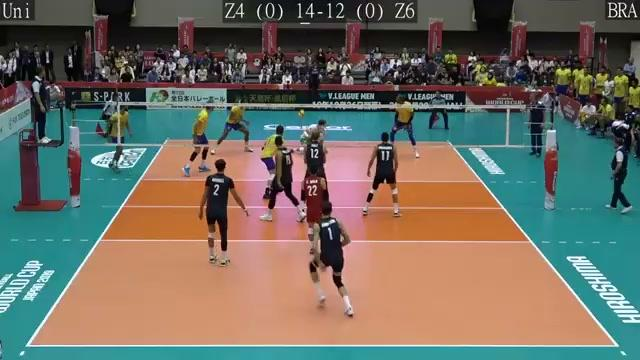ball: (294, 108, 306, 119)
